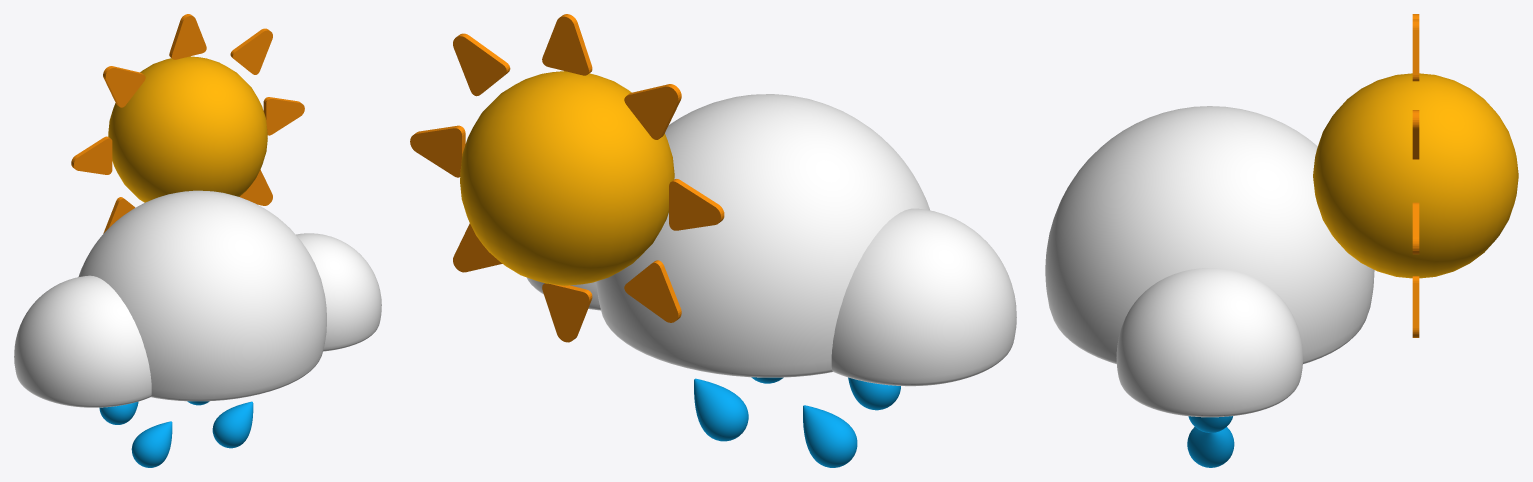
File: sun_behind_rain_cloud.glb
The picture shows the model from 3 angles, left to right: view 1: azimuth 30°, elevation 25°; view 2: azimuth 150°, elevation 25°; view 3: azimuth 270°, elevation 25°; orthographic projection. The views are drawn at different scales.
Parts seen in each view (by area): view 1: Cube.206; view 2: Cube.206; view 3: Cube.206.
Part boxes in pixels (left/top/right/bottom): Cube.206: left=14, top=14, right=381, bottom=467; Cube.206: left=410, top=14, right=1016, bottom=467; Cube.206: left=1045, top=14, right=1518, bottom=467.
Bounding box in the file's own units: 2.22 × 2.15 × 1.97.
1 material, 1 textured.
